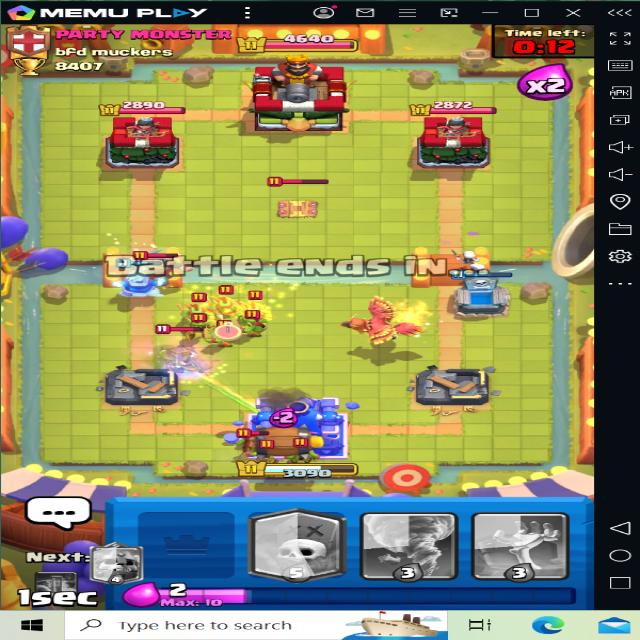archer-queen: (139, 330, 212, 378)
archer-queen-ability: (145, 322, 218, 380)
goblin: (284, 439, 324, 466), (238, 314, 274, 342), (238, 425, 267, 456), (208, 317, 236, 346), (182, 316, 214, 340), (256, 439, 280, 462)
knight: (119, 245, 189, 289)
spear-goblin: (177, 296, 214, 322), (212, 286, 243, 314), (248, 290, 280, 316)
tesla: (252, 170, 335, 222)
